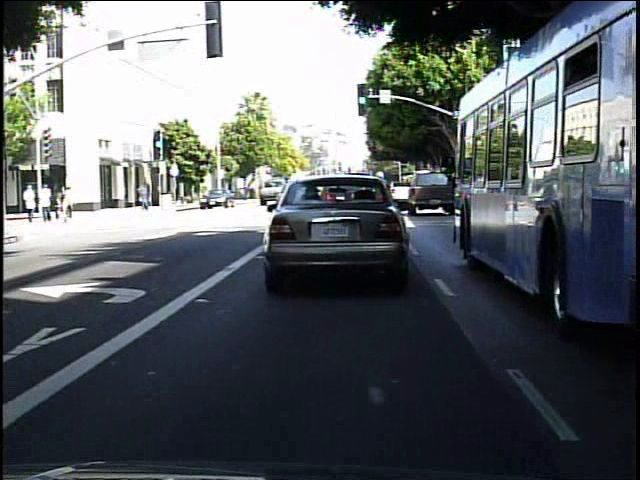person: (21, 180, 38, 224), (134, 179, 153, 215), (38, 182, 54, 223), (54, 183, 69, 223), (54, 187, 61, 221), (63, 181, 64, 221)
